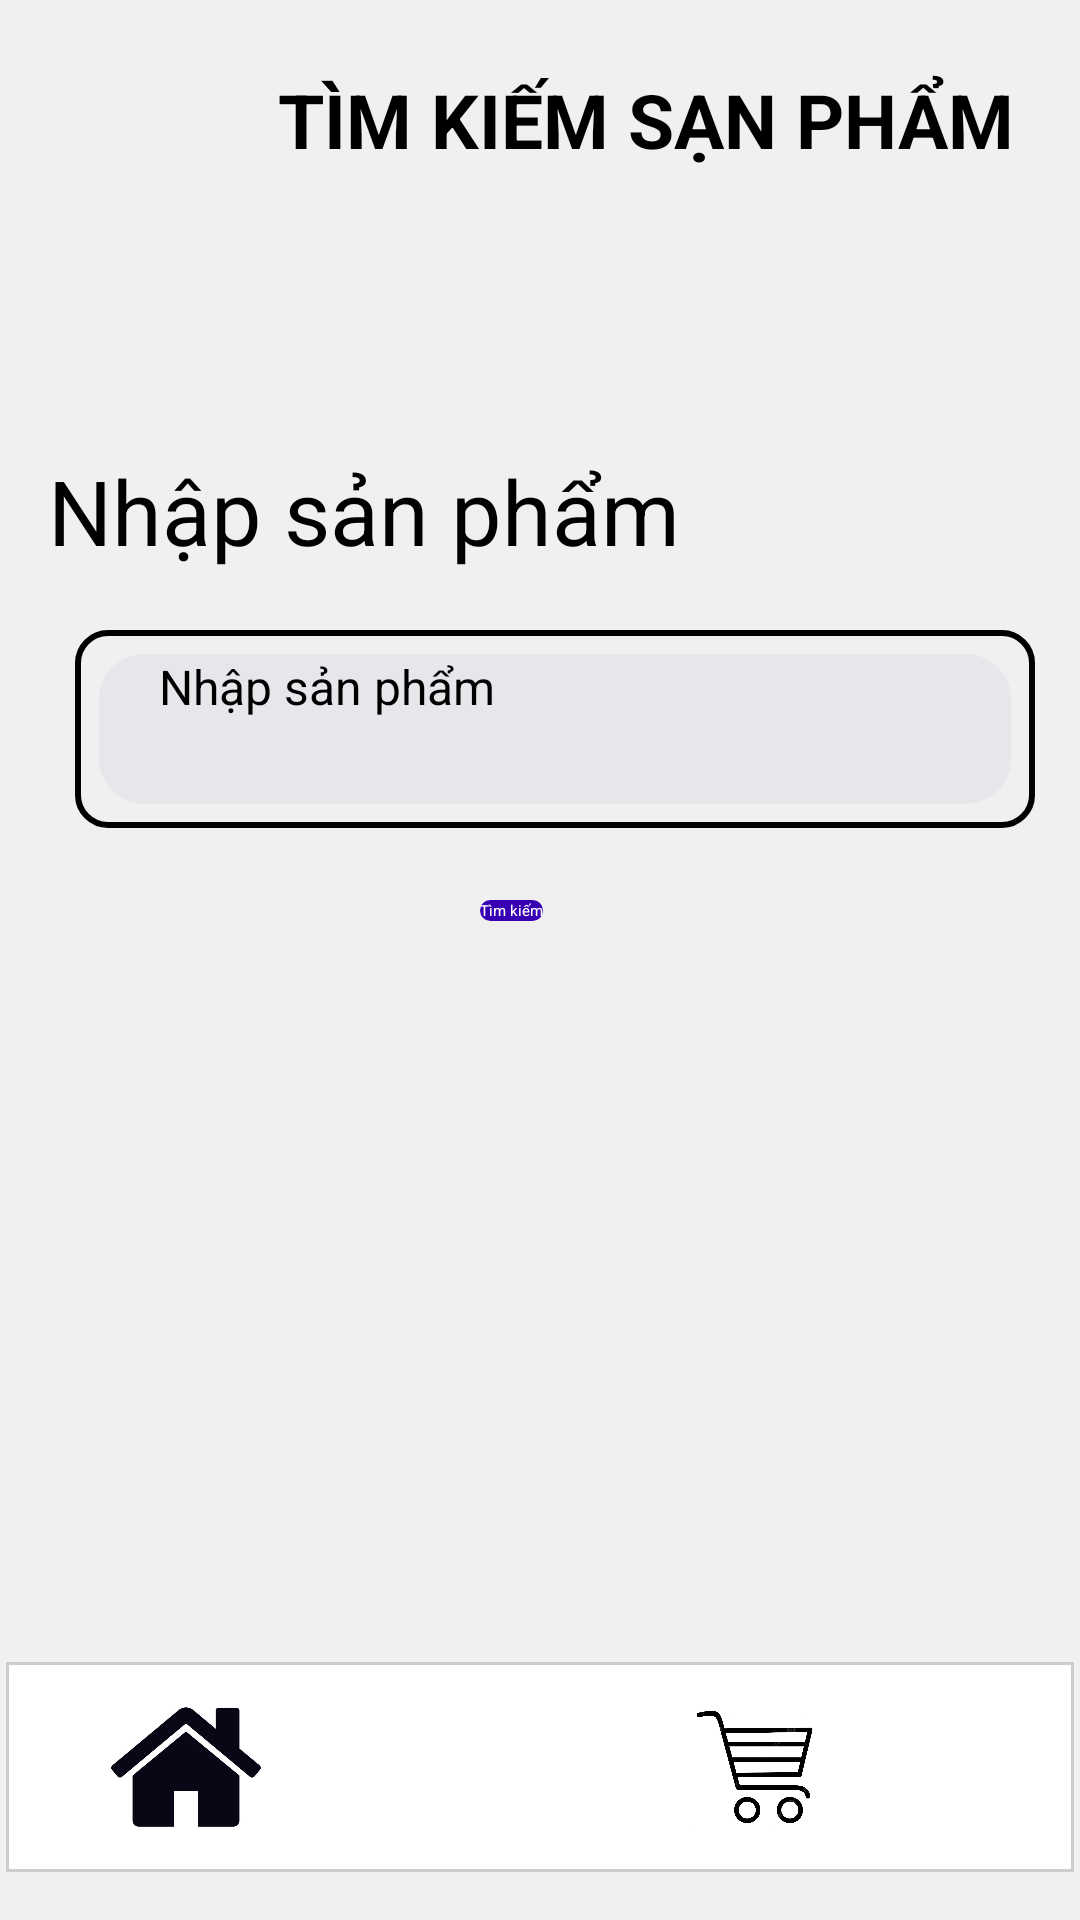

Icon click points for this 1080 × 1920 phone screenshot, format [x,y]:
gio hang: [755,1767]
home: [186,1767]
